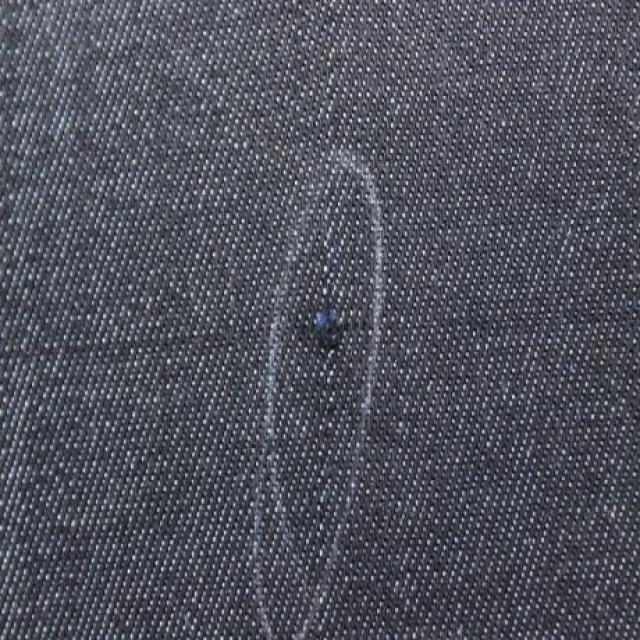stains: (296, 271, 384, 451)
